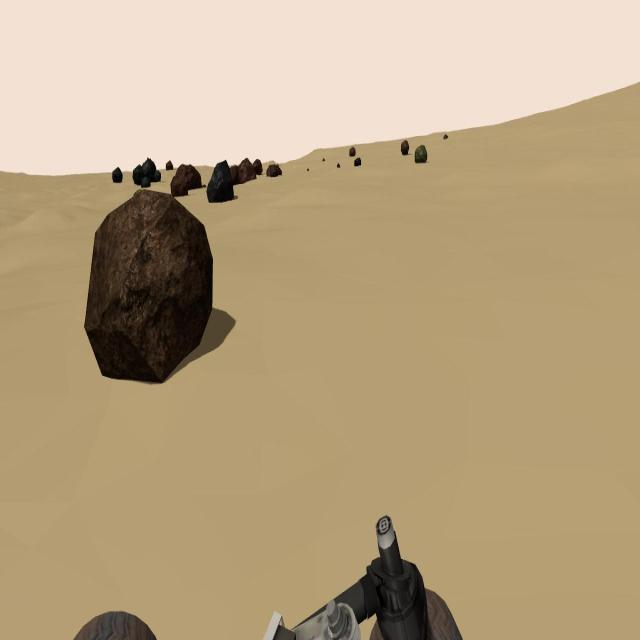rock: (84, 190, 212, 385), (207, 160, 234, 201), (176, 164, 201, 188), (143, 158, 161, 184), (239, 158, 257, 182), (171, 176, 188, 197), (415, 144, 427, 164), (133, 166, 143, 184), (230, 166, 240, 184), (112, 167, 122, 183), (266, 164, 280, 175), (253, 160, 262, 174), (401, 141, 409, 155), (165, 160, 173, 171), (141, 178, 150, 187), (354, 158, 362, 166), (350, 147, 356, 156), (443, 134, 447, 140), (322, 157, 326, 162), (338, 164, 341, 170)
